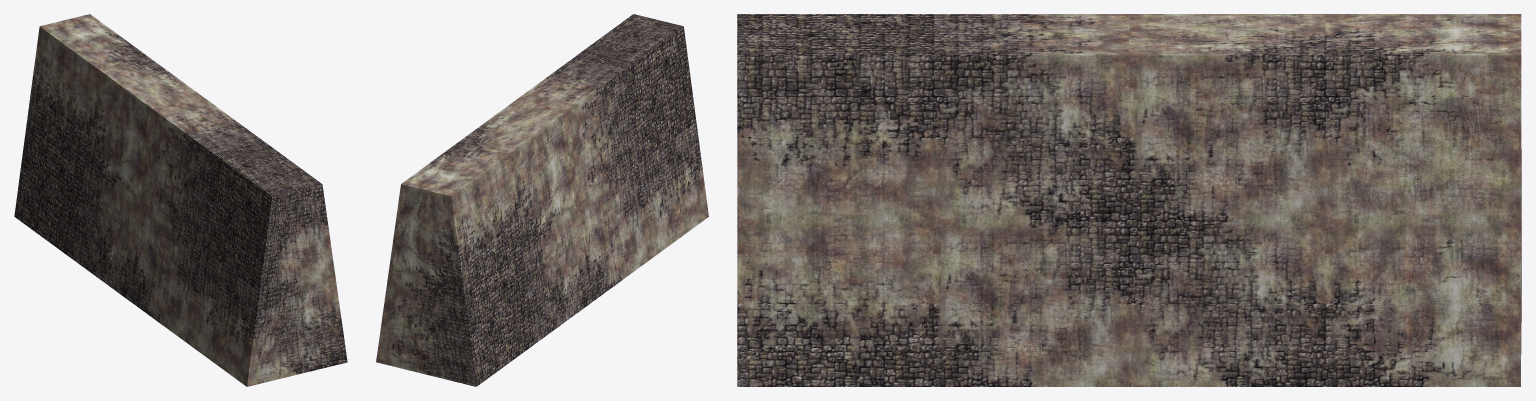
The model's file is pir_m_bld_frt_innerWallStucco_200.fbx.
3 views of the same model, side by side, from view 1: azimuth 30°, elevation 25°; view 2: azimuth 150°, elevation 25°; view 3: azimuth 270°, elevation 25° (orthographic). The views are drawn at different scales.
Visible parts, largest first — view 1: lod_high; view 2: lod_high; view 3: lod_high.
Part boxes in pixels (x1,y1,x2,y2): lod_high: (14, 14, 347, 386); lod_high: (376, 14, 708, 386); lod_high: (737, 14, 1521, 386).
Size of the model in its own units: 5000 by 8750 by 20009.
2 materials, 2 textured.
